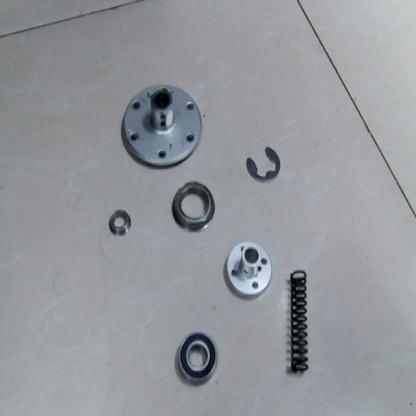FOD: (119, 83, 204, 171), (221, 240, 274, 301), (286, 266, 311, 378), (168, 178, 217, 235), (173, 330, 222, 387), (244, 147, 282, 184), (104, 208, 137, 238)
